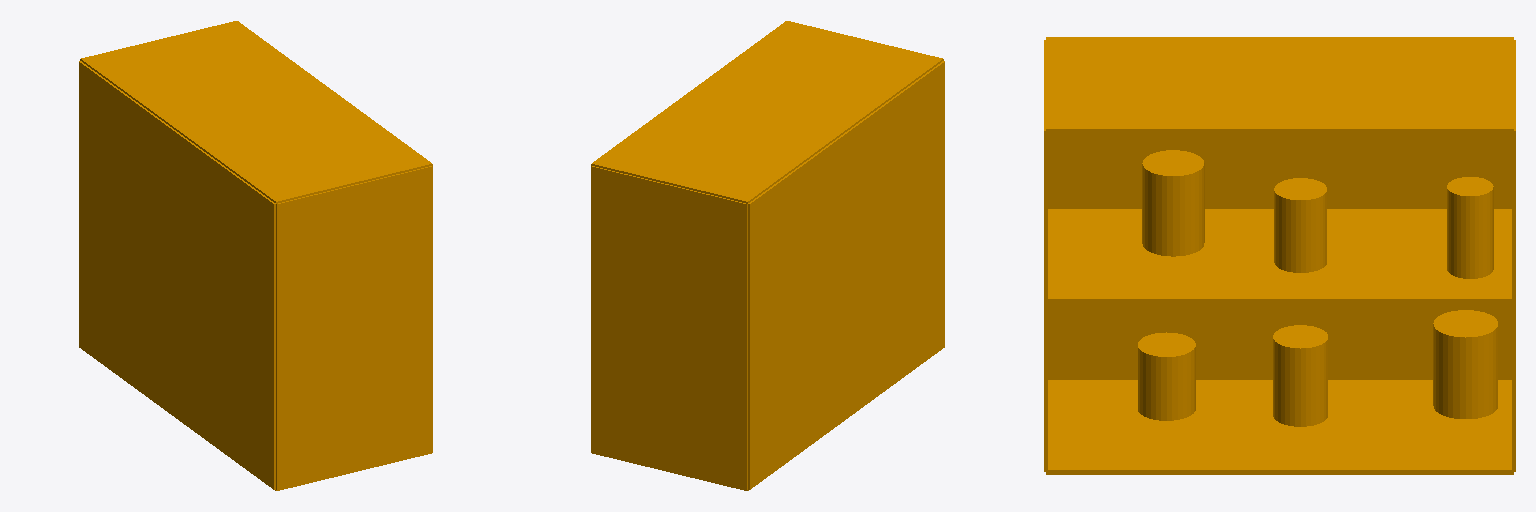
URDF robot description (syn_can_cabinet_438):
<?xml version="1.0" ?>
<robot name="syn_can_cabinet_438">
    <link concave="yes" name="base_link">
        <inertial>
            <origin rpy="0 0 0" xyz="0 0 0"/>
            <mass value="0.0"/>
            <inertia ixx="1e-08" ixy="0" ixz="0" iyy="1e-08" iyz="0" izz="1e-08"/>
        </inertial>
        <visual>
            <origin xyz="0 0 0" rpy="0 0 0" />
            <geometry>
                <mesh filename="syn_can_cabinet_438.obj" scale="1.000000 1.000000 1.000000"/>
            </geometry>         
        </visual>

        <collision concave="yes">
            <origin xyz="0 0 0" rpy="0 0 0"/>
            <geometry>
                <mesh filename="syn_can_cabinet_438.obj" scale="1.000000 1.000000 1.000000"/>
            </geometry>
        </collision>
    </link>
</robot>
    

--- Render facts (derived) ---
Views: 3 orthographic renders of the robot side by side, from view 1: azimuth 30°, elevation 25°; view 2: azimuth 150°, elevation 25°; view 3: azimuth 270°, elevation 25°.
Robot: syn_can_cabinet_438 — 1 links, 0 joints (none); root link base_link; default pose: every joint at zero.
Visible links, largest first — view 1: base_link; view 2: base_link; view 3: base_link.
Boxes of the visible links, x1,y1,x2,y2 form: base_link: (79, 21, 432, 490); base_link: (591, 21, 944, 490); base_link: (1044, 37, 1515, 474).
Bounding box of the posed robot: 0.2179 × 0.4691 × 0.3803 m (x, y, z).
1 mesh visuals loaded from 1 distinct referenced files (1 OBJ).
